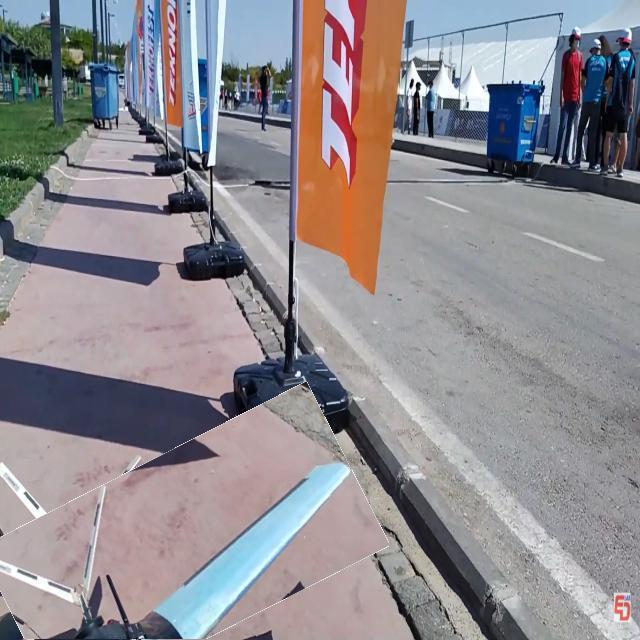plane: (0, 452, 354, 638)
